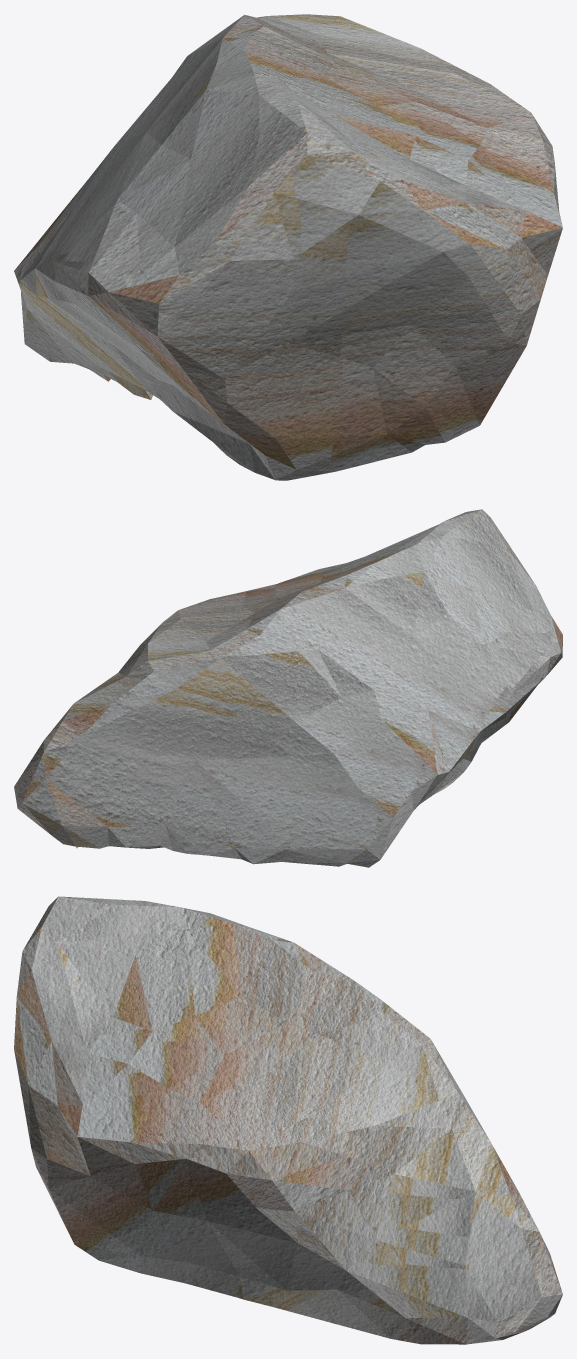
Rendered from rock.dae.
The picture shows the model from 3 angles, top to bottom: view 1: azimuth 30°, elevation 25°; view 2: azimuth 150°, elevation 25°; view 3: azimuth 270°, elevation 25°; orthographic projection. The views are drawn at different scales.
Parts seen in each view (by area): view 1: skp50; view 2: skp50; view 3: skp50.
Boxes of the visible parts, x1=… form: skp50: x1=14, y1=14, x2=562, y2=480; skp50: x1=14, y1=509, x2=562, y2=867; skp50: x1=14, y1=896, x2=562, y2=1344.
Bounding box in the file's own units: 24.78 × 25.02 × 15.26.
1 material, 1 textured.
